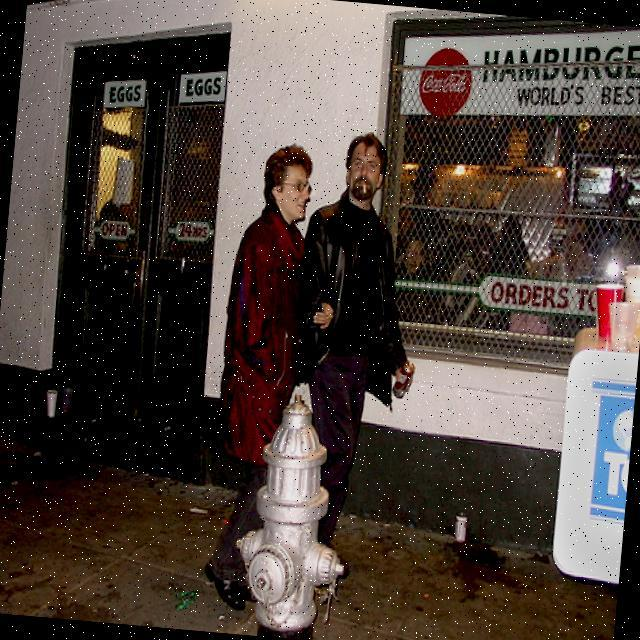fire_hydrant: (222, 376, 363, 640)
